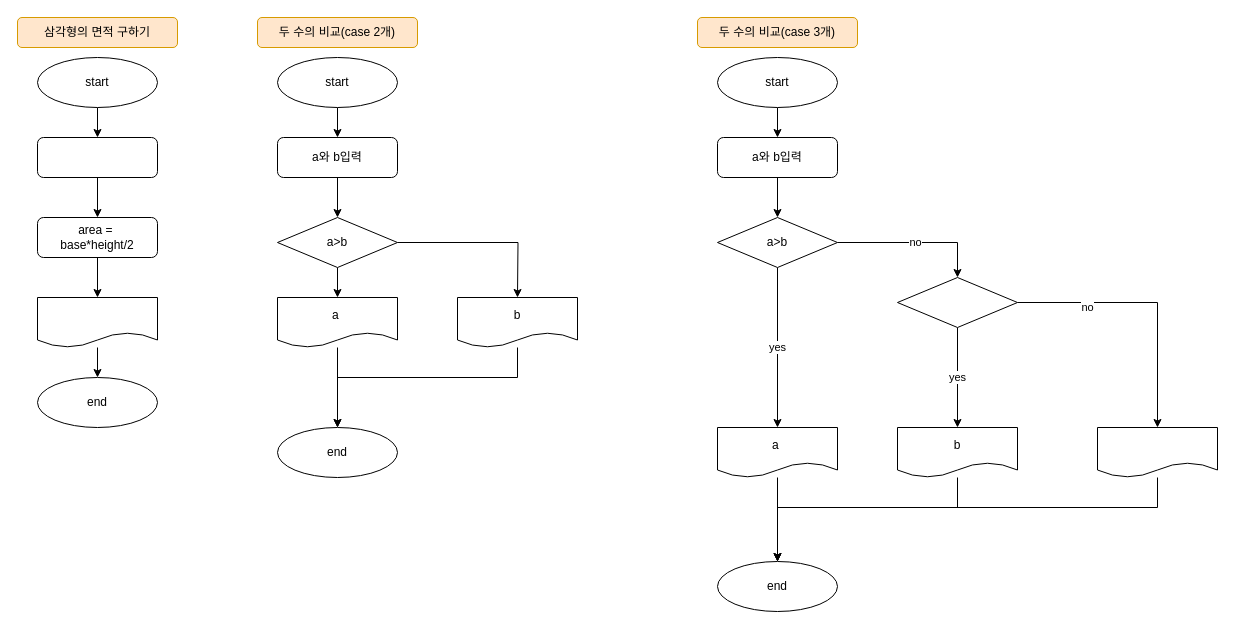
Image size: 1235x629. Some labels were removed from this diagram. Here are the shapes that lost their labels. From the top down, the centre of each, then its label:
At pixel 97 157: "base와 height입력".
At pixel 97 322: "area".
At pixel 957 302: "a<b".
At pixel 1157 452: "a=b".
